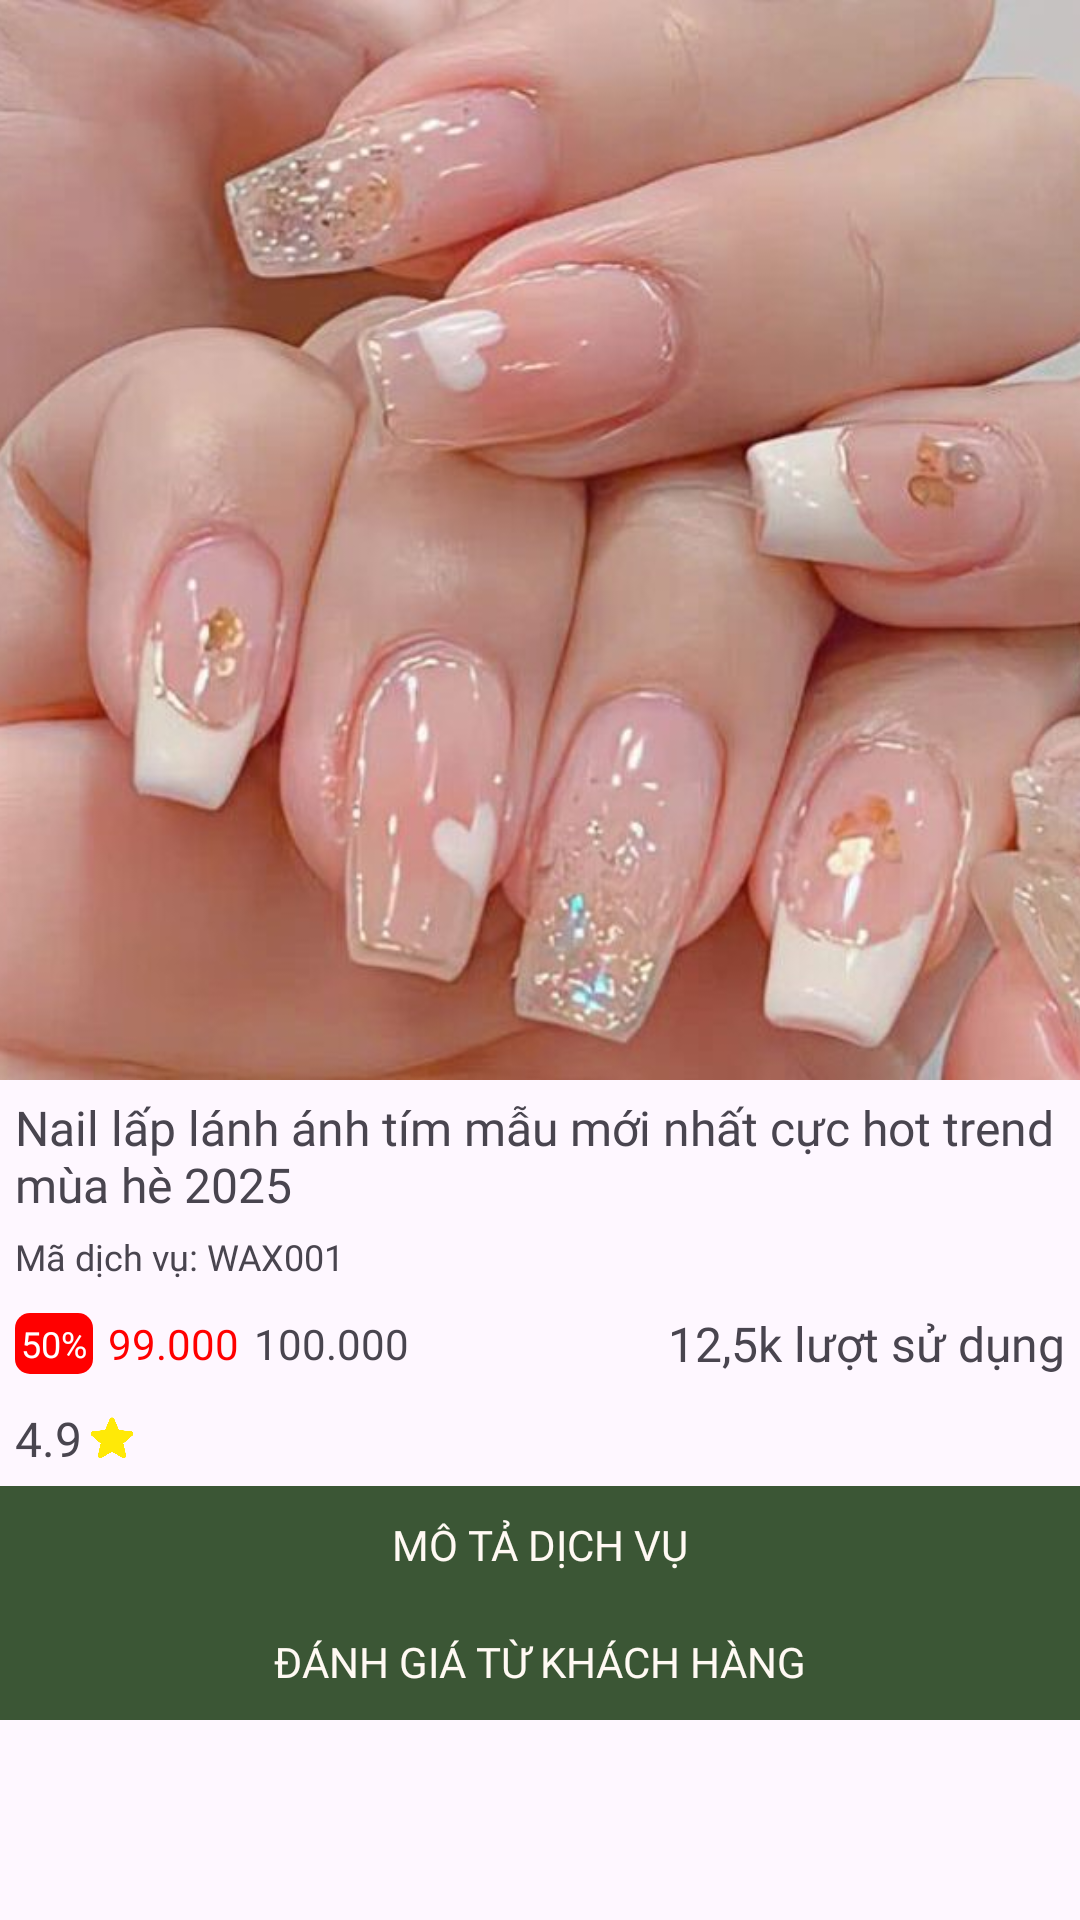

Icons on this 1080px×1920px Android screen, each with the point to tap as [x,y]:
star: [112,1437]
